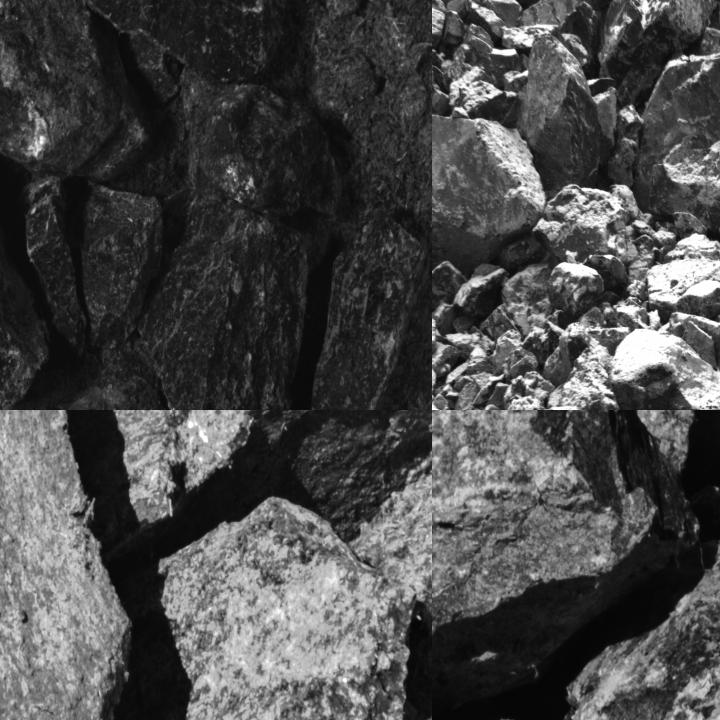stone: (432, 410, 708, 719), (158, 497, 413, 719), (69, 410, 431, 528), (0, 410, 133, 719), (137, 192, 308, 409), (569, 512, 719, 719), (0, 0, 154, 188), (292, 214, 431, 409), (181, 68, 348, 220), (363, 425, 431, 701), (79, 0, 296, 84), (63, 184, 164, 364), (432, 117, 550, 261), (518, 37, 614, 189), (597, 0, 719, 106), (21, 180, 83, 366), (0, 341, 166, 409), (638, 55, 719, 193), (611, 326, 719, 409), (535, 183, 630, 262), (646, 136, 719, 229), (647, 253, 719, 316), (502, 264, 550, 334), (548, 263, 600, 318), (453, 263, 505, 317), (398, 677, 431, 719), (482, 0, 525, 28), (670, 211, 711, 235), (432, 3, 444, 49), (510, 0, 566, 7)
